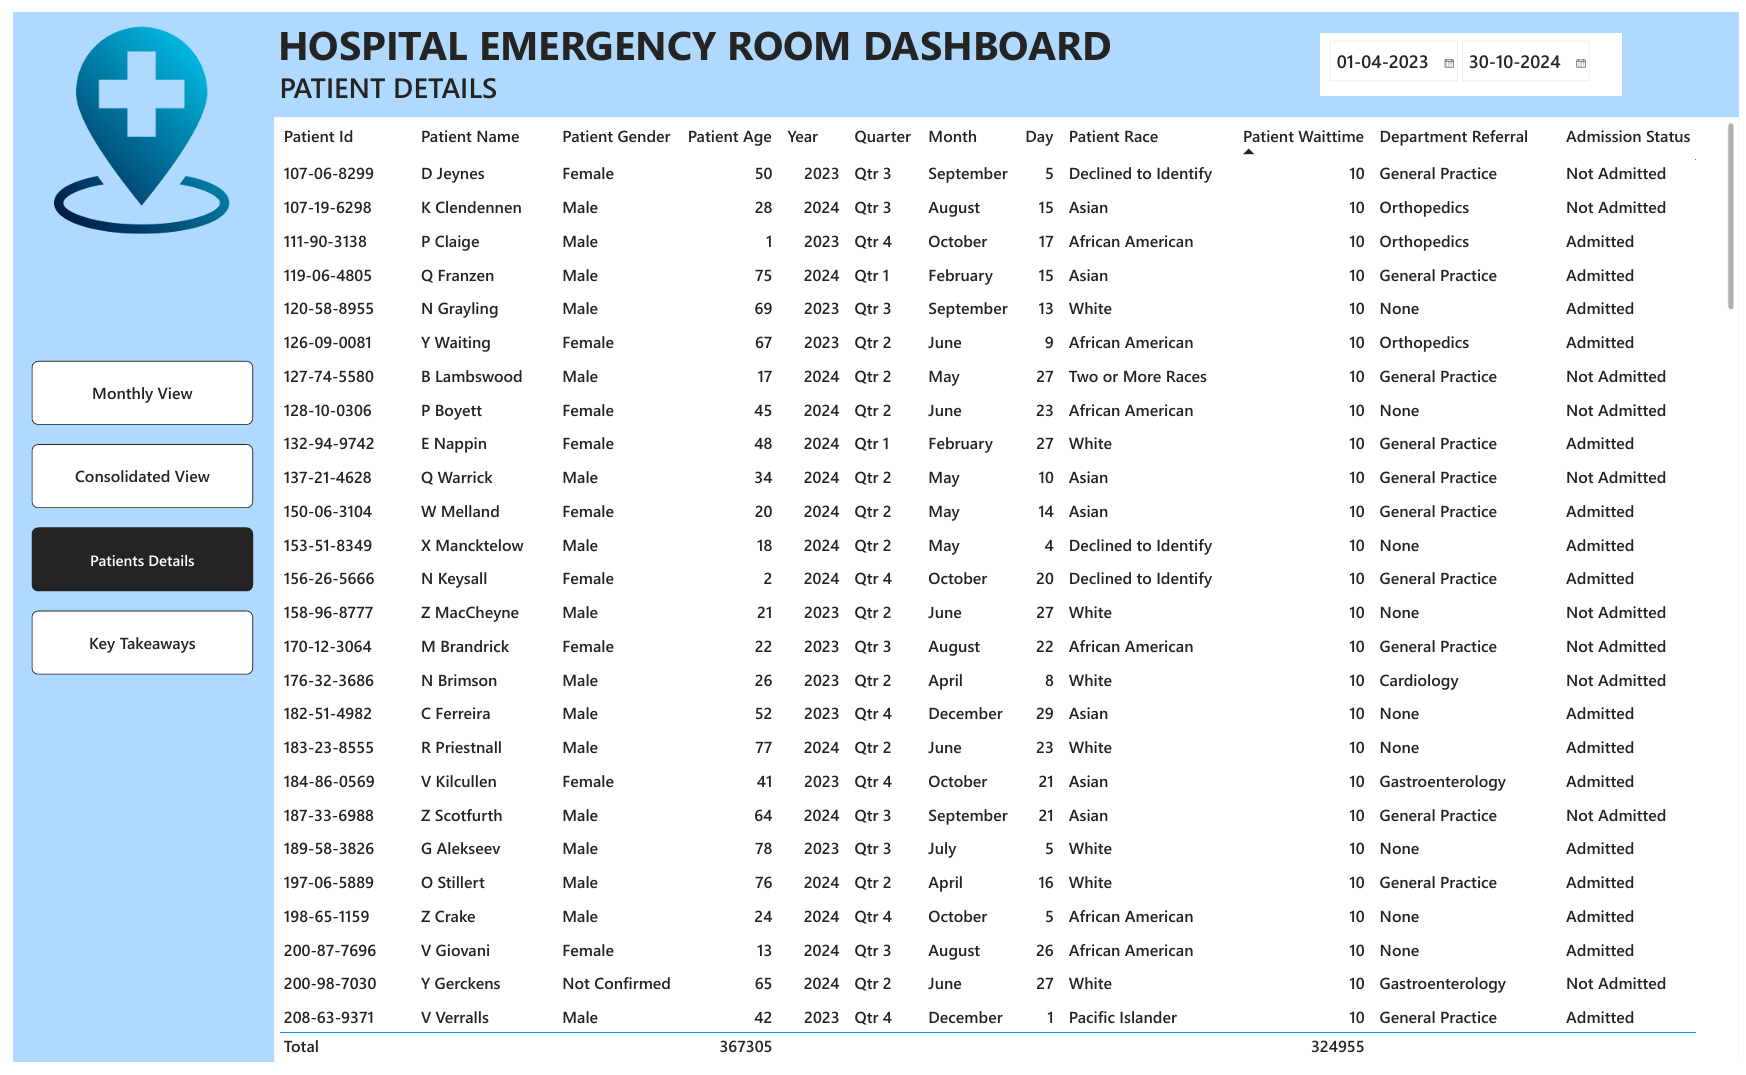

The dashboard page shown, as its layout file describes it:
{"tool":"powerbi","page":{"name":"Patients Details","canvas":[2300,1400],"ordinal":2},"visuals":[{"type":"shape","box":[348,0,1952,140],"z":0},{"type":"textbox","box":[348,0,1162,92],"z":1000},{"type":"textbox","box":[350,68.2,411.4,72.7],"z":2000},{"type":"slicer","fields":{"Values":["Date Table.Date"]},"box":[1743.2,27.3,402.3,84.1],"z":3000},{"type":"shape","box":[0,0,346.7,1400],"z":4000},{"type":"image","box":[31.8,18.2,279.5,277.3],"z":5000},{"type":"tableEx","fields":{"Values":["Hospital ER_Data.Patient Id","Hospital ER_Data.Patient Full Name","Hospital ER_Data.Patient Gender","Sum(Hospital ER_Data.Patient Age)","Hospital ER_Data.Patient Admission Date.Variation.Date Hierarchy.Year","Hospital ER_Data.Patient Admission Date.Variation.Date Hierarchy.Quarter","Hospital ER_Data.Patient Admission Date.Variation.Date Hierarchy.Month","Hospital ER_Data.Patient Admission Date.Variation.Date Hierarchy.Day","Hospital ER_Data.Patient Race","Sum(Hospital ER_Data.Patient Waittime)","Hospital ER_Data.Department Referral","Hospital ER_Data.Admission Status"]},"box":[350,140.9,1950,1259.1],"z":6000},{"type":"pageNavigator","box":[25,463.6,295.5,420.5],"z":6001}]}

Visuals, with their boxes in screenshot pixels (x1, y1, x2, y2), scaled from the page's 2300x1400 canvas onto the 1746x1075 screenshot:
shape: x1=264, y1=0, x2=1745, y2=108
textbox: x1=264, y1=0, x2=1146, y2=71
textbox: x1=266, y1=52, x2=578, y2=108
slicer - Date Table.Date: x1=1323, y1=21, x2=1629, y2=86
shape: x1=0, y1=0, x2=263, y2=1074
image: x1=24, y1=14, x2=236, y2=227
tableEx - Hospital ER_Data.Patient Id x Hospital ER_Data.Patient Full Name: x1=266, y1=108, x2=1745, y2=1074
pageNavigator: x1=19, y1=356, x2=243, y2=679
